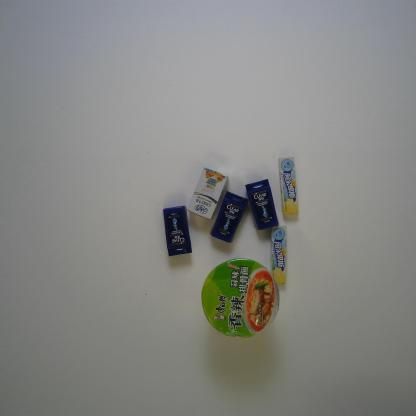Candy: (278, 158, 298, 216), (270, 226, 288, 284)
Instant Noodles: (201, 258, 280, 338)
Milk: (186, 167, 228, 220)
Personal Hygiene: (210, 191, 249, 244), (245, 179, 279, 230), (163, 204, 192, 256)
